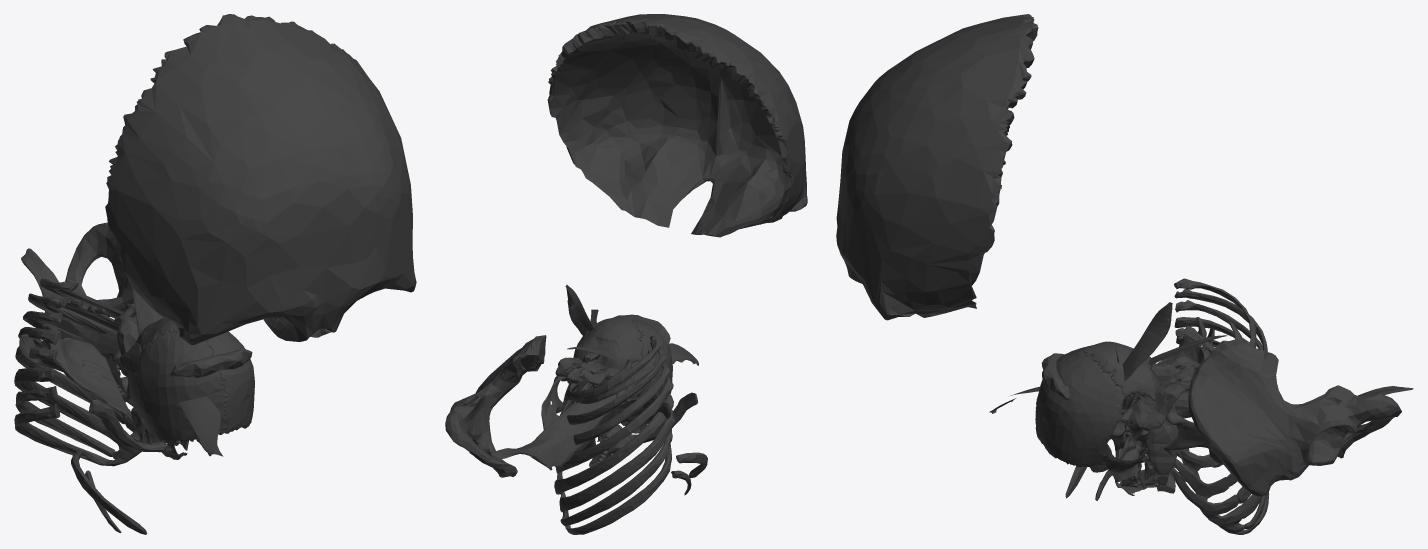
File: sharedassets36.glb
3 views of the same model, side by side, from view 1: azimuth 30°, elevation 25°; view 2: azimuth 150°, elevation 25°; view 3: azimuth 270°, elevation 25° (orthographic). The views are drawn at different scales.
Visible parts, largest first — view 1: 0085_Frontal__001097, 0073_Parietal, R__001095, 0000_Scapula, L__000982, 0203_Longissimus thoracis, R__1000650, 0074_Parietal, L__001094, 0129_Eighth rib _08_, R__002280, 0130_Ninth rib _09_, R__002281, 0131_Tenth rib _10_, R__002282, 0124_Manubrium__001162, 0138_Seventh rib _07_, R__002279, 0001_Clavicle, L__000981, 0007_Ischium, R__001010 (+14 smaller); view 2: 0085_Frontal__001097, 0203_Longissimus thoracis, R__1000650, 0075_Occipital__001132, 0009_Ilium, R__001012, 0150_Seventh rib _07_, L__002291, 0149_Sixth rib _06_, L__002290, 0129_Eighth rib _08_, R__002280, 0175_S01-05 Sacrum__001242, 0006_Ilium, L__001003, 0130_Ninth rib _09_, R__002281, 0131_Tenth rib _10_, R__002282, 0134_Third rib _03_, R__002275 (+15 smaller); view 3: 0085_Frontal__001097, 0006_Ilium, L__001003, 0009_Ilium, R__001012, 0074_Parietal, L__001094, 0175_S01-05 Sacrum__001242, 0007_Ischium, R__001010, 0075_Occipital__001132, 0123_Sphenoid__001143, 0126_Body of sternum__001163, 0200_Splenius cervicis, R__1000678, 0008_Pubis, R__001011, 0149_Sixth rib _06_, L__002290 (+8 smaller).
Part boxes in pixels (x1,y1,x2,y2): 0085_Frontal__001097: (105,14,416,344); 0073_Parietal, R__001095: (135,331,226,442); 0000_Scapula, L__000982: (19,324,128,414); 0203_Longissimus thoracis, R__1000650: (21,248,223,456); 0074_Parietal, L__001094: (206,331,254,433); 0129_Eighth rib _08_, R__002280: (14,367,141,457); 0130_Ninth rib _09_, R__002281: (15,386,133,462); 0131_Tenth rib _10_, R__002282: (14,404,125,466); 0124_Manubrium__001162: (169,348,252,377); 0138_Seventh rib _07_, R__002279: (16,350,134,431); 0001_Clavicle, L__000981: (89,399,168,452); 0007_Ischium, R__001010: (66,222,114,281); 0085_Frontal__001097: (547,14,807,237); 0203_Longissimus thoracis, R__1000650: (490,343,698,470); 0075_Occipital__001132: (573,316,643,369); 0009_Ilium, R__001012: (476,335,545,407); 0150_Seventh rib _07_, L__002291: (554,394,673,494); 0149_Sixth rib _06_, L__002290: (555,377,672,473); 0129_Eighth rib _08_, R__002280: (561,410,675,513); 0175_S01-05 Sacrum__001242: (555,357,642,397); 0006_Ilium, L__001003: (467,335,546,434); 0130_Ninth rib _09_, R__002281: (562,428,672,524); 0131_Tenth rib _10_, R__002282: (565,444,671,534); 0134_Third rib _03_, R__002275: (566,336,661,401); 0085_Frontal__001097: (836,14,1038,320); 0006_Ilium, L__001003: (1188,339,1321,496); 0009_Ilium, R__001012: (1189,339,1321,496); 0074_Parietal, L__001094: (1035,351,1125,472); 0175_S01-05 Sacrum__001242: (1120,356,1199,434); 0007_Ischium, R__001010: (1312,385,1401,433); 0075_Occipital__001132: (1083,341,1160,400); 0123_Sphenoid__001143: (1105,421,1151,483); 0126_Body of sternum__001163: (1145,364,1177,475); 0200_Splenius cervicis, R__1000678: (1113,302,1172,381); 0008_Pubis, R__001011: (1309,422,1370,463); 0149_Sixth rib _06_, L__002290: (1175,317,1249,498).
Bounding box in the file's own units: 0.175 × 0.3091 × 0.3138.
1 material, 1 textured.
